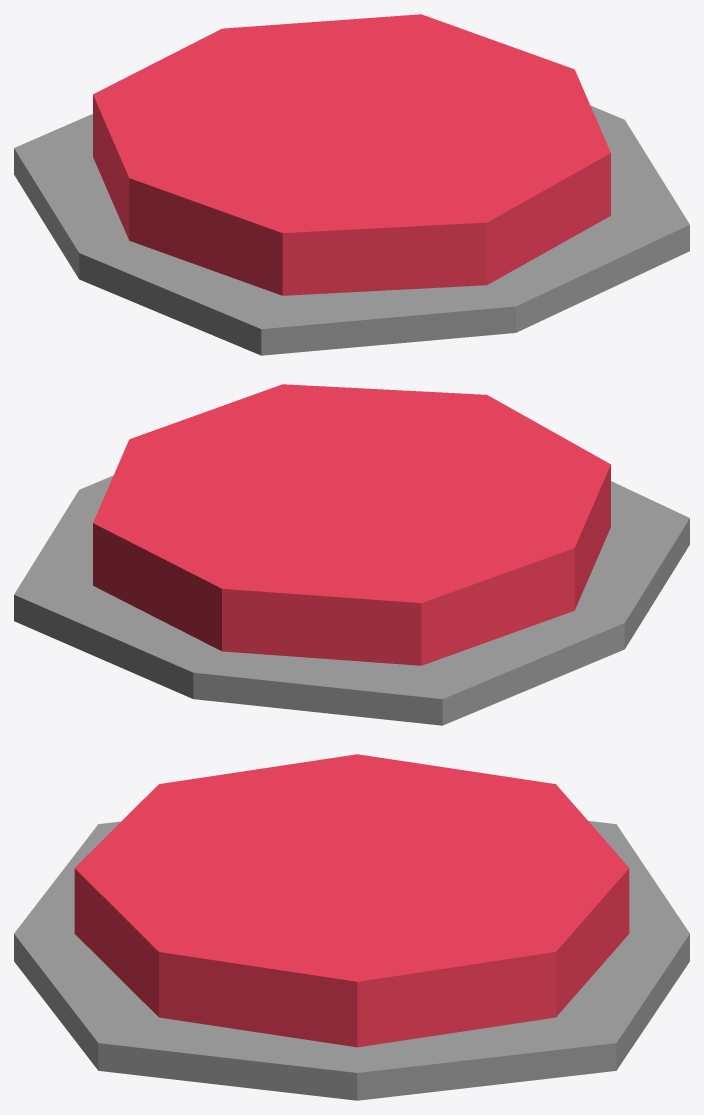
File: Button.fbx
3 renders of one model, top to bottom at view 1: azimuth 30°, elevation 25°; view 2: azimuth 150°, elevation 25°; view 3: azimuth 270°, elevation 25°, orthographic. The views are drawn at different scales.
Parts seen in each view (by area): view 1: Button, Bace; view 2: Button, Bace; view 3: Button, Bace.
Boxes of the visible parts, x1,y1,x2,y2 form: Button: [93, 14, 610, 295]; Bace: [14, 105, 689, 355]; Button: [93, 384, 610, 665]; Bace: [14, 475, 689, 725]; Button: [74, 754, 629, 1047]; Bace: [14, 821, 689, 1100].
Size of the model in its own units: 255 by 39.75 by 261.
